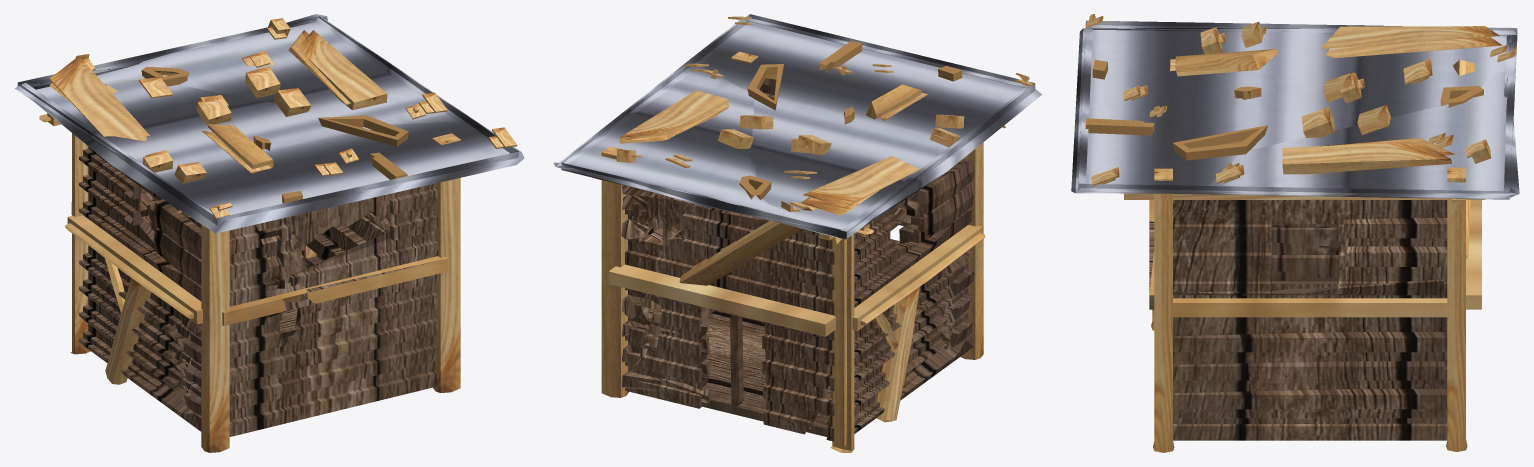
The model's file is abandonedhouse.fbx.
3 views of the same model, side by side, from view 1: azimuth 30°, elevation 25°; view 2: azimuth 150°, elevation 25°; view 3: azimuth 270°, elevation 25° (orthographic). The views are drawn at different scales.
Parts seen in each view (by area): view 1: Cube.004; view 2: Cube.004; view 3: Cube.004.
Part boxes in pixels (x1=…): Cube.004: x1=14, y1=14, x2=524, y2=452; Cube.004: x1=553, y1=14, x2=1042, y2=452; Cube.004: x1=1071, y1=14, x2=1519, y2=452.
Bounding box in the file's own units: 588 × 504 × 668.
